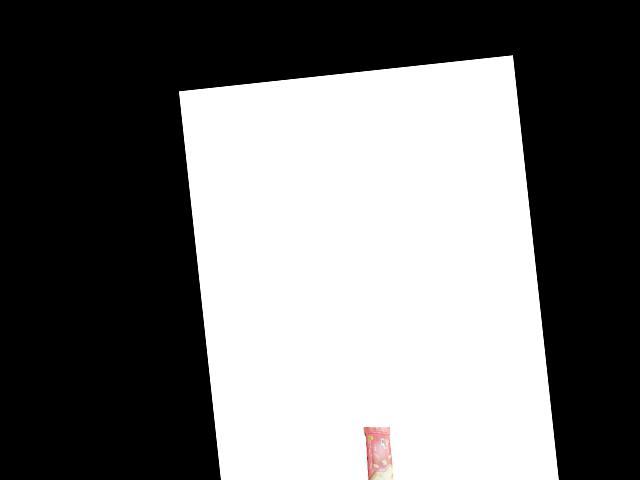chocolate: (356, 419, 398, 480)
